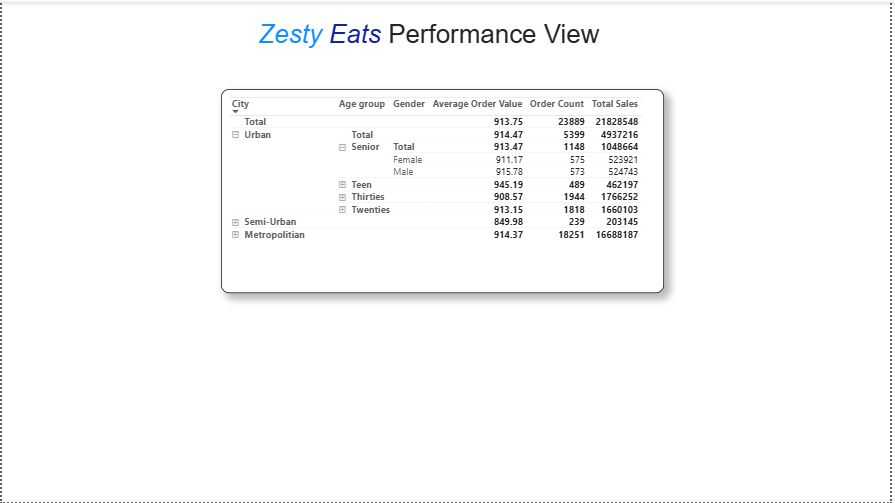

Layout of this report page (visuals, bound fields, positions):
{"tool":"powerbi","page":{"name":"Matrix","canvas":[1280,720],"ordinal":3},"visuals":[{"type":"textbox","box":[364.5,20.2,532.5,68.9],"z":0},{"type":"pivotTable","fields":{"Rows":["User_details.City","User_details.Age group","User_details.Gender"],"Values":["Avg(Order_details.Order Value)","CountNonNull(Order_details.Order Id)","Order_details.Total Sales"]},"box":[315.8,126,638.3,294],"z":1000}]}

Visuals, with their boxes in screenshot pixels (x1, y1, x2, y2), scaled from the page's 1280x720 canvas onto the 895x503 screenshot:
textbox: Rect(255, 14, 627, 62)
pivotTable - User_details.City x User_details.Age group: Rect(221, 88, 667, 293)
